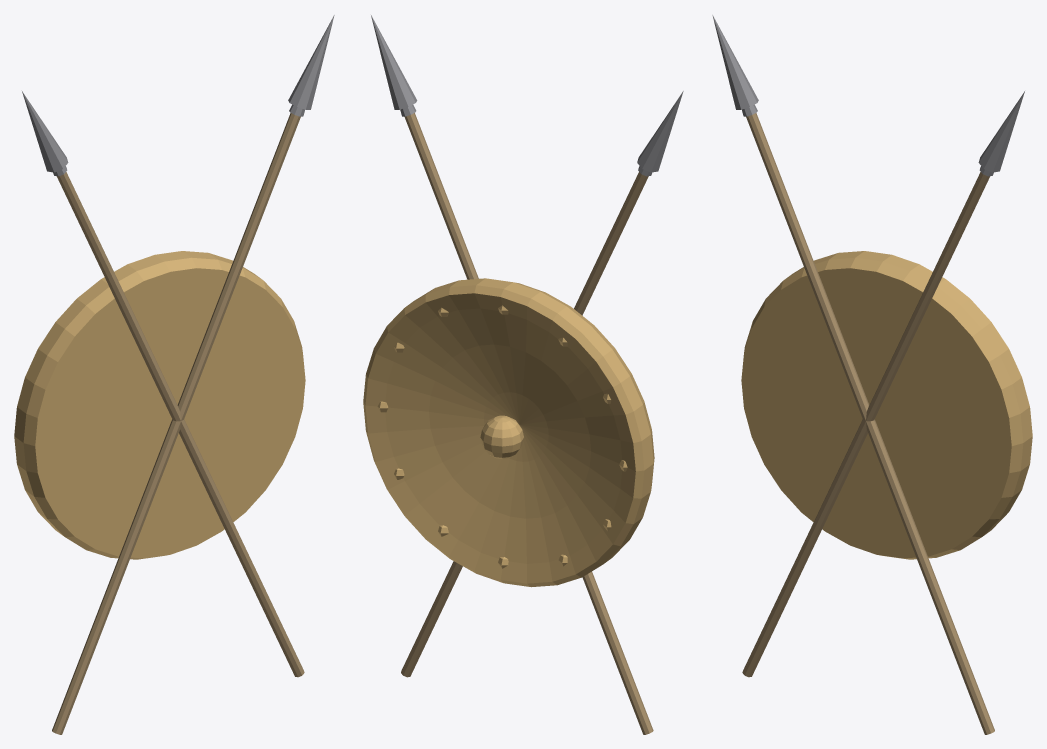
Rendered from trophy.glb.
The picture shows the model from 3 angles, left to right: view 1: azimuth 30°, elevation 25°; view 2: azimuth 150°, elevation 25°; view 3: azimuth 330°, elevation 25°; orthographic projection.
Visible parts, largest first — view 1: shield, shafts, heads; view 2: shield, shafts, heads; view 3: shield, shafts, heads.
Part boxes in pixels (bbox=[...]): shield: bbox=[14, 251, 305, 559]; shafts: bbox=[52, 113, 304, 734]; heads: bbox=[22, 15, 334, 176]; shield: bbox=[363, 278, 654, 587]; shafts: bbox=[401, 113, 653, 734]; heads: bbox=[371, 15, 683, 176]; shield: bbox=[741, 251, 1032, 559]; shafts: bbox=[742, 113, 994, 734]; heads: bbox=[712, 15, 1024, 176].
Bounding box in the file's own units: 1.16 × 2.31 × 0.27.
